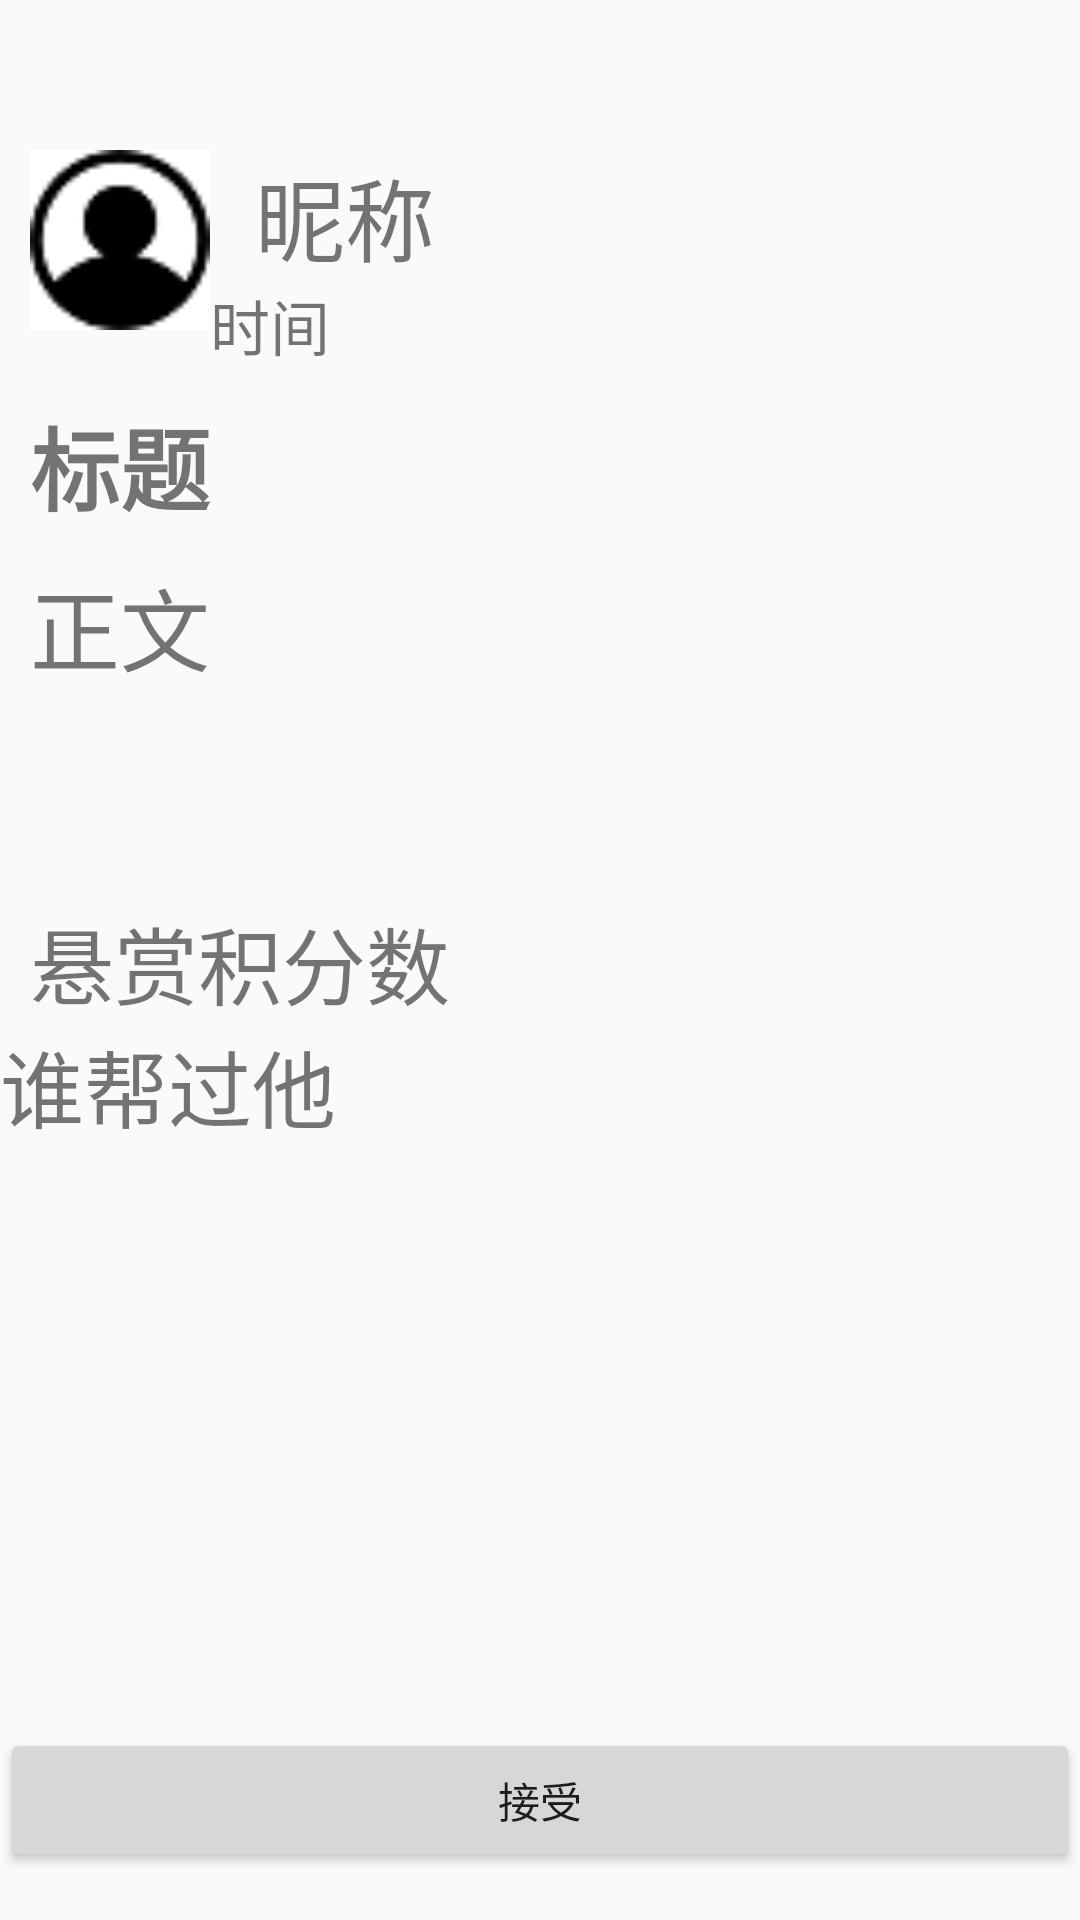

Icon click points for this 1080*1920 phone screenshot, format (x,y):
defaulthead: (120,240)
